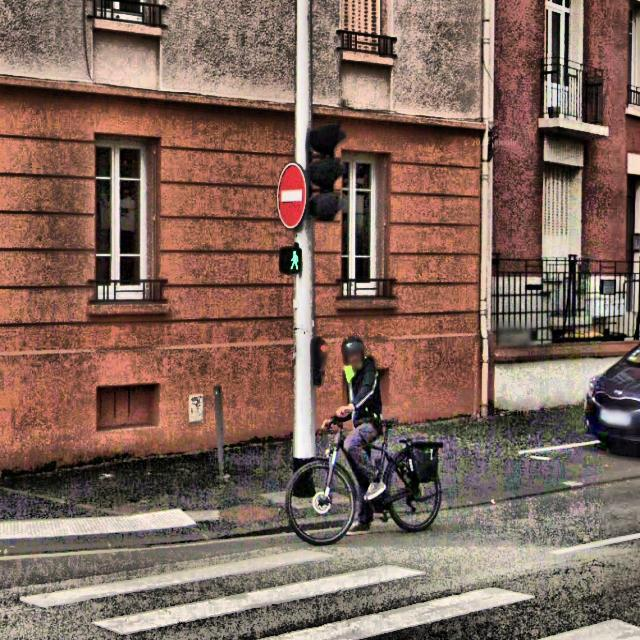green_light: (287, 246, 300, 274)
